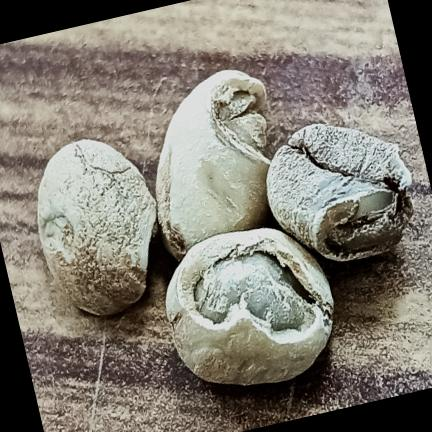broken: (166, 228, 333, 385), (156, 70, 270, 260), (38, 139, 157, 315), (267, 124, 413, 261)
